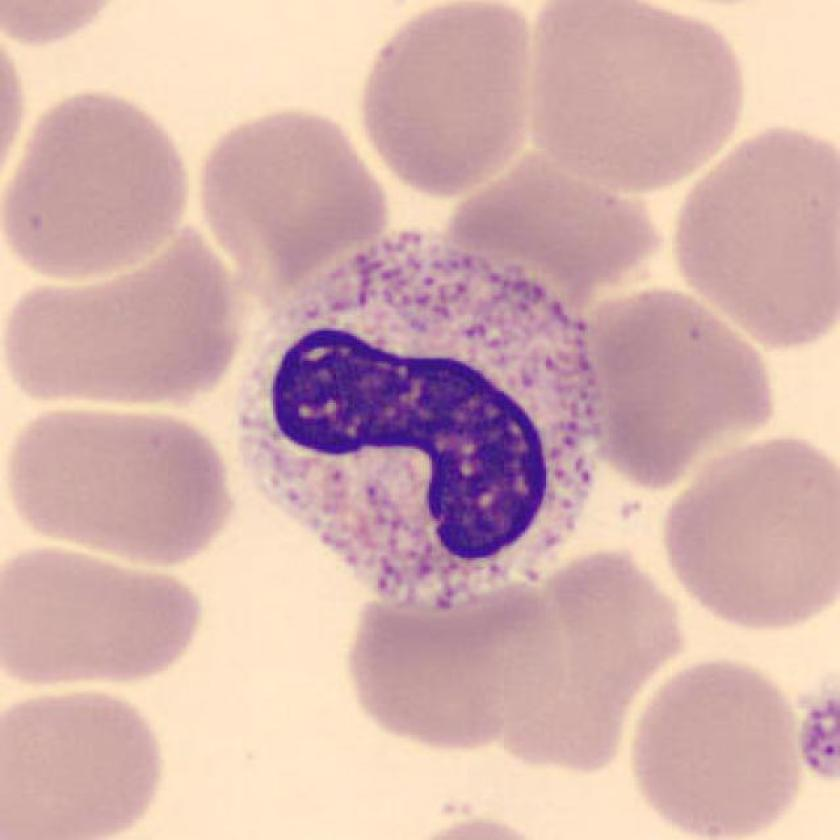neutrophil: (235, 225, 597, 614)
